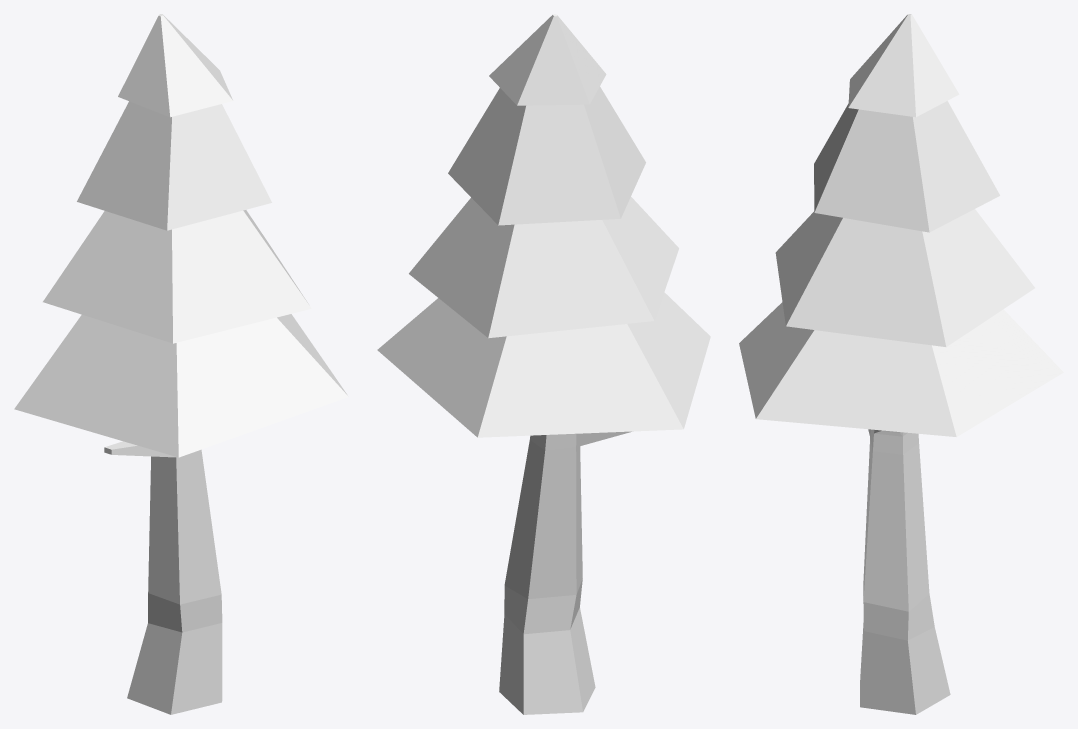
File: tree.sequoia.tall.details.glb
3 views of the same model, side by side, from view 1: azimuth 30°, elevation 25°; view 2: azimuth 150°, elevation 25°; view 3: azimuth 270°, elevation 25° (orthographic).
Visible parts, largest first — view 1: sequoia.tall.details; view 2: sequoia.tall.details; view 3: sequoia.tall.details.
Part boxes in pixels (x1,y1,x2,y2): sequoia.tall.details: [14, 14, 348, 714]; sequoia.tall.details: [377, 14, 710, 714]; sequoia.tall.details: [739, 14, 1063, 714].
Bounding box in the file's own units: 3.51 × 7.87 × 3.43.
Materials: 1 (1 with a texture image).
